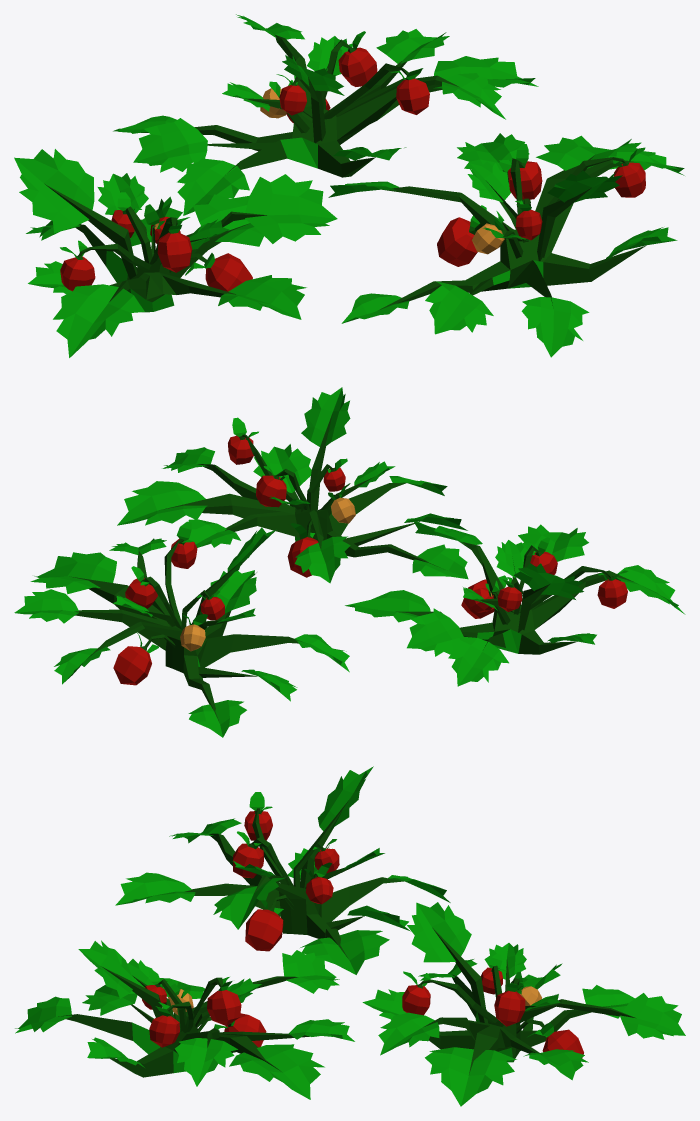
The model's file is strawberry.glb.
3 views of the same model, one above another, from view 1: azimuth 30°, elevation 25°; view 2: azimuth 150°, elevation 25°; view 3: azimuth 270°, elevation 25° (orthographic). The views are drawn at different scales.
Parts seen in each view (by area): view 1: strawberry; view 2: strawberry; view 3: strawberry.
Boxes of the visible parts, x1=… form: strawberry: x1=14, y1=14, x2=684, y2=357; strawberry: x1=14, y1=387, x2=685, y2=737; strawberry: x1=15, y1=766, x2=685, y2=1106.
Size of the model in its own units: 3.17 by 0.75 by 3.33.
